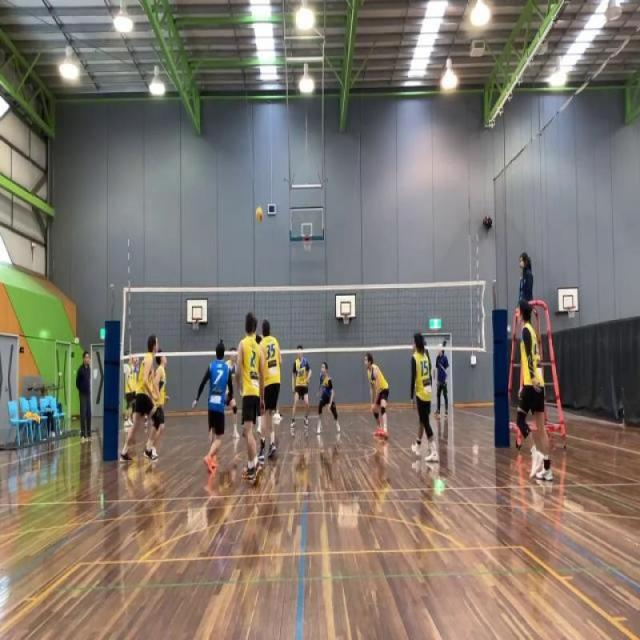volleyball: (255, 206, 263, 226)
